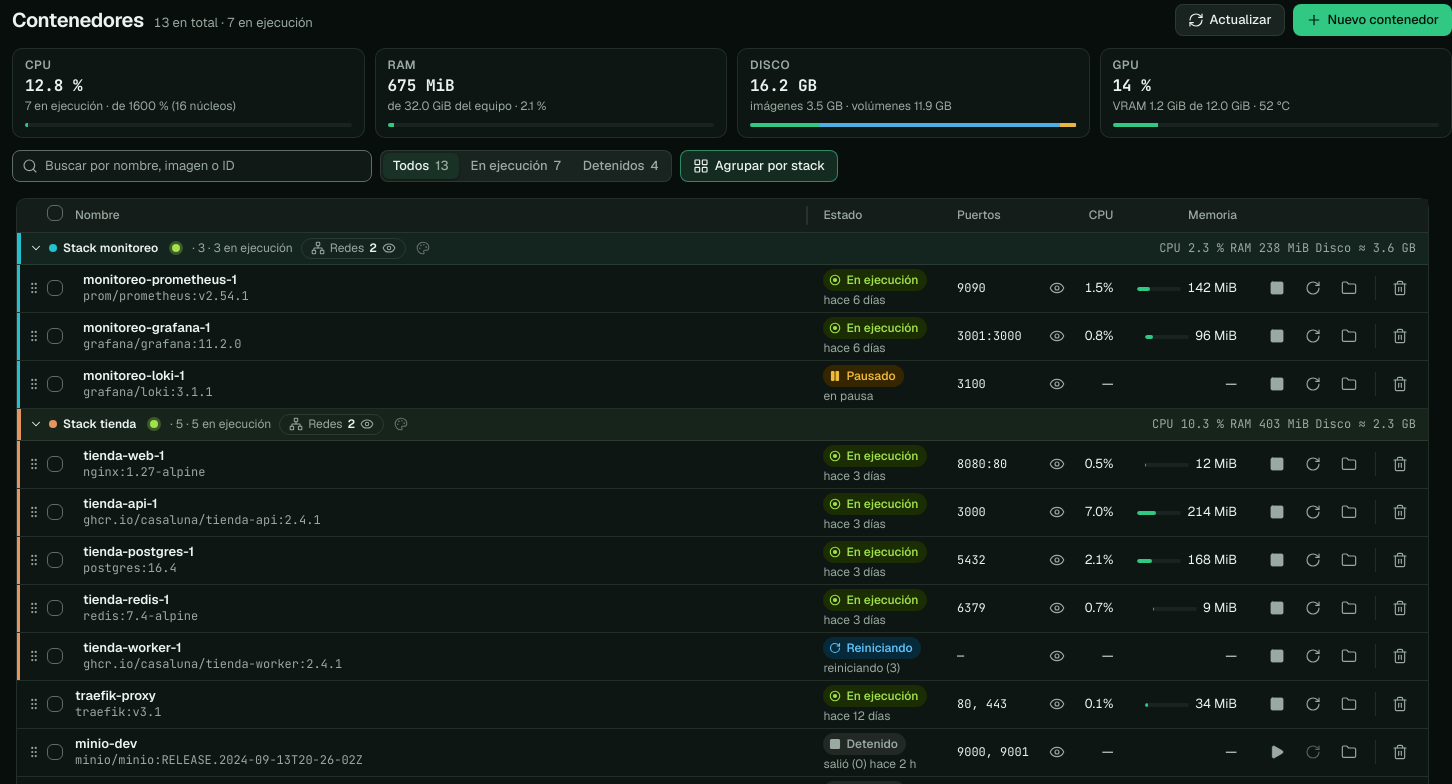
Test case: ContainersPage › detener y reiniciar pasan por el motor y actualizan el estado
Check: the link "tienda-api-1" is shown, box [83,495,158,512]
Step 1. Click the button named "Detener tienda-web-1" → (1277, 464), box [1261,448,1293,480]
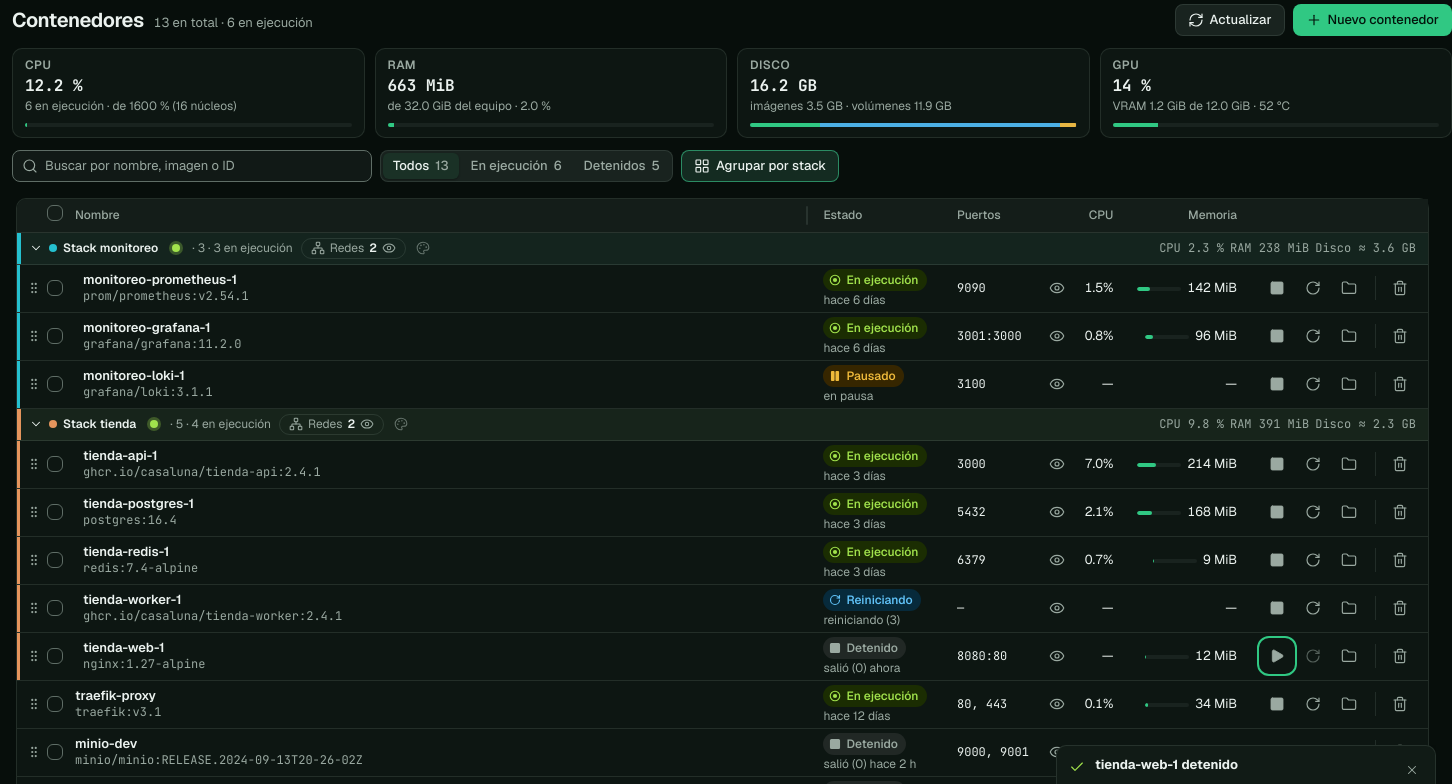
Check: the text "Detenido" in the row of "nginx:1.27-alpine" is shown, box [846,640,898,656]
Check: the button named "Reiniciar tienda-web-1" is disabled, box [1297,640,1329,672]
